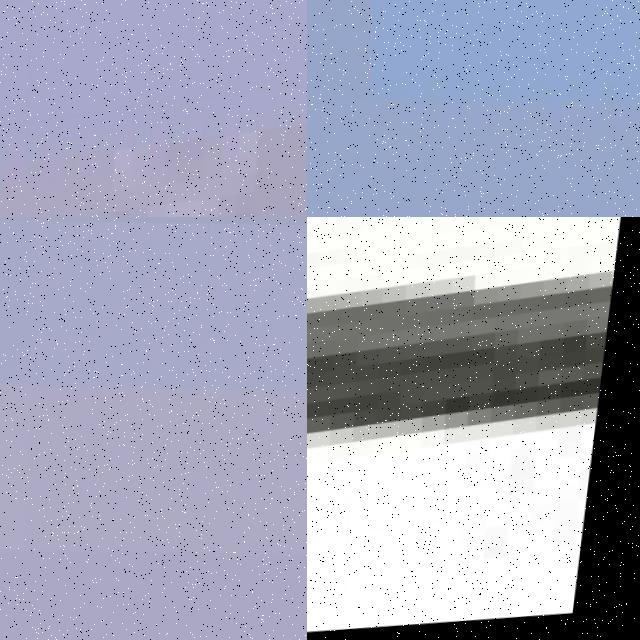0: (0, 0, 307, 217)
drone: (307, 217, 640, 640)
